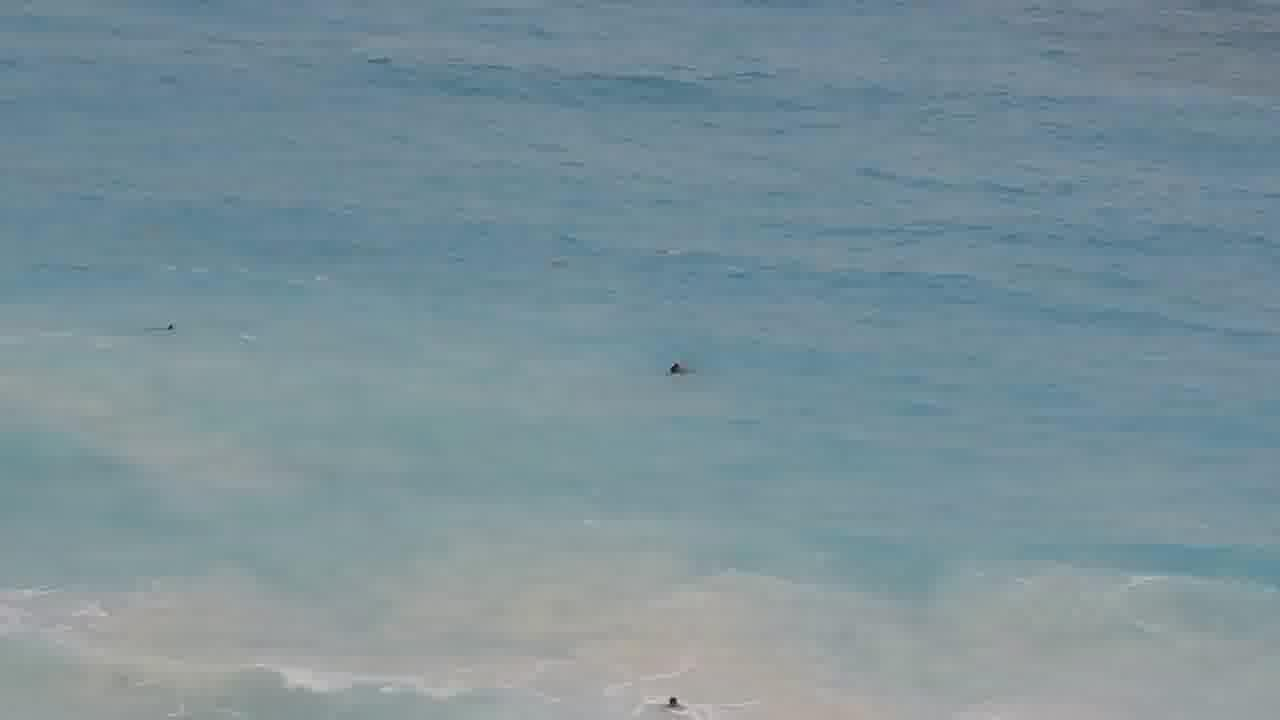swimmer: (651, 337, 696, 400), (647, 680, 696, 720), (148, 310, 195, 347)
